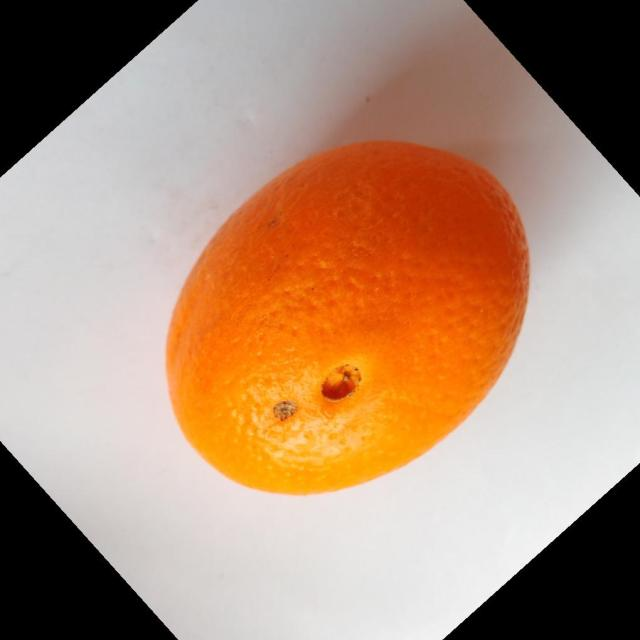fresh orange: (164, 138, 531, 496)
